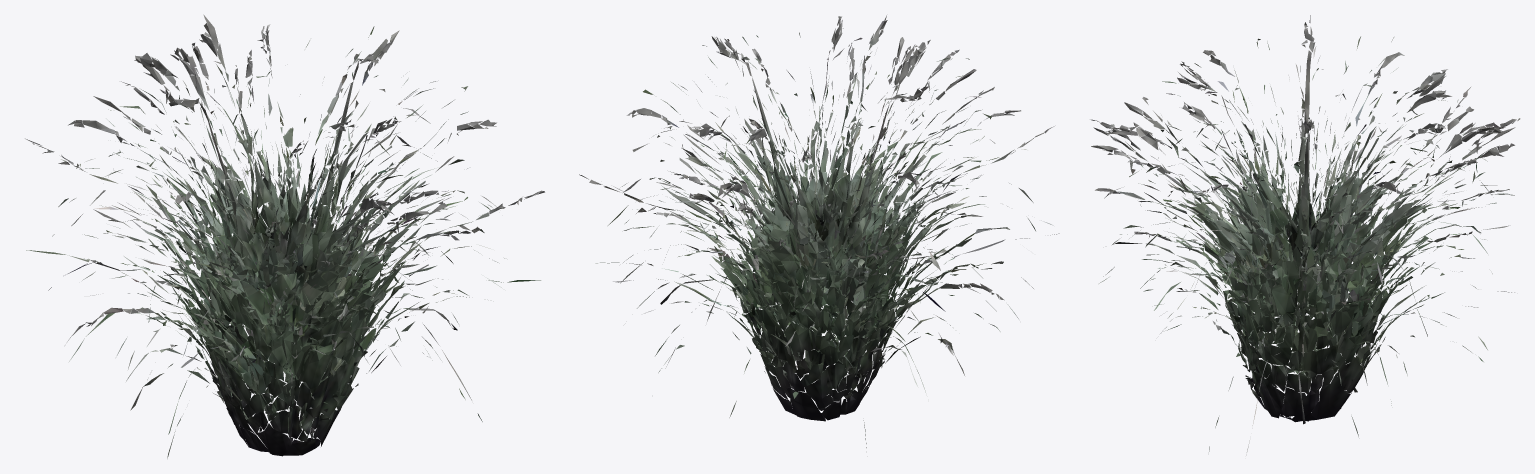
Rendered from paja.glb.
The picture shows the model from 3 angles, left to right: view 1: azimuth 30°, elevation 25°; view 2: azimuth 150°, elevation 25°; view 3: azimuth 270°, elevation 25°; orthographic projection. The views are drawn at different scales.
Parts seen in each view (by area): view 1: tripo_node_78ac2093-a251-4ad7-b32e-41ee35c6d729; view 2: tripo_node_78ac2093-a251-4ad7-b32e-41ee35c6d729; view 3: tripo_node_78ac2093-a251-4ad7-b32e-41ee35c6d729.
Part boxes in pixels (x1,y1,x2,y2): tripo_node_78ac2093-a251-4ad7-b32e-41ee35c6d729: [25, 14, 544, 458]; tripo_node_78ac2093-a251-4ad7-b32e-41ee35c6d729: [579, 15, 1059, 447]; tripo_node_78ac2093-a251-4ad7-b32e-41ee35c6d729: [1090, 15, 1520, 455].
Size of the model in its own units: 0.999 by 0.8376 by 0.9637.
Materials: 1 (1 with a texture image).
